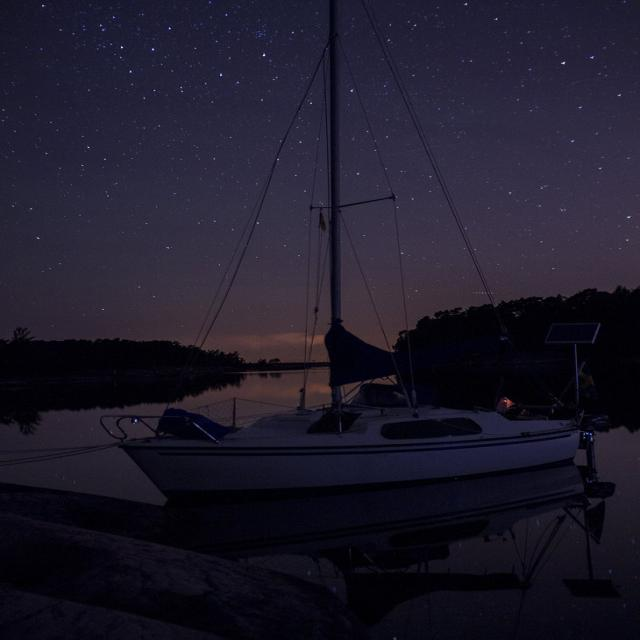Boat: (156, 25, 586, 518)
